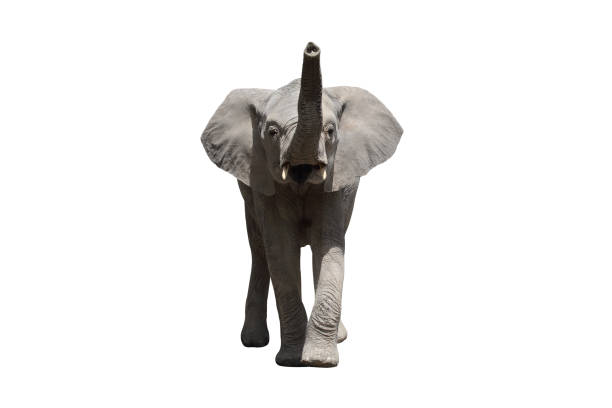africanelephant: (247, 49, 359, 222)
